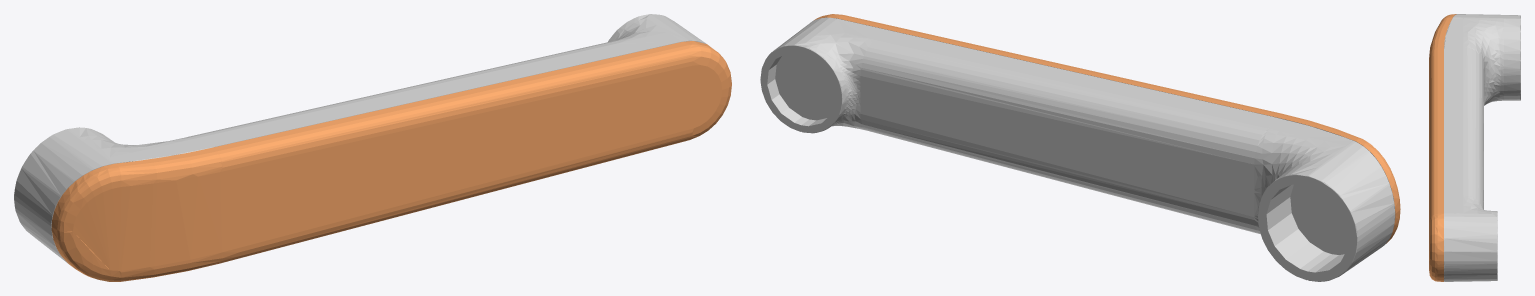
The picture shows the model from 3 angles, left to right: view 1: azimuth 30°, elevation 25°; view 2: azimuth 150°, elevation 25°; view 3: azimuth 270°, elevation 25°; orthographic projection. The views are drawn at different scales.
Parts seen in each view (by area): view 1: Link; view 2: Link; view 3: Link.
Part boxes in pixels (box(x1,y1,x2,y2)): Link: box(14, 14, 731, 281); Link: box(760, 14, 1400, 281); Link: box(1429, 14, 1520, 281).
Size of the model in its own units: 0.4481 by 0.075 by 0.0785.
